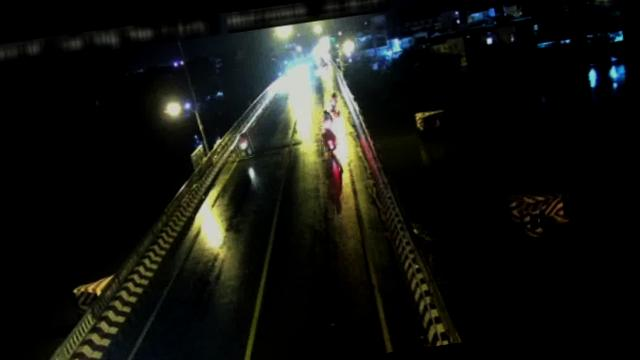Bike: (234, 131, 254, 159), (319, 124, 336, 151), (325, 90, 341, 114)
